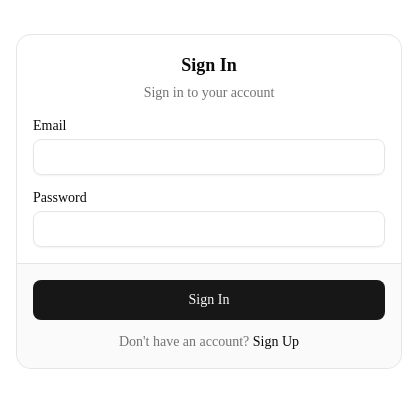
SignInForm › announces the server's error and stays on the page
This screenshot has width=419, height=404.
Type "alice@example.com" into the field labelled "Email".
click(209, 156); type("alice@example.com")  # box 33,138 -> 385,174
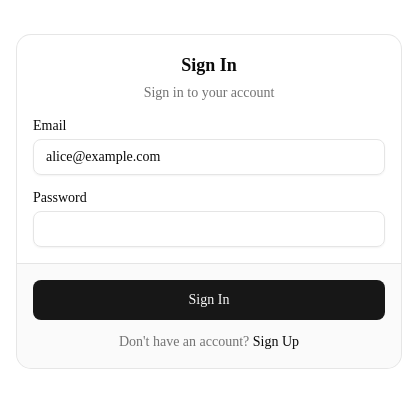
Type "correct horse" into the password field labelled "Password".
click(209, 228); type("correct horse")  # box 33,210 -> 385,246
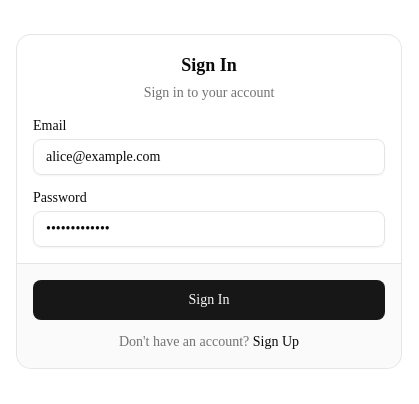
Click the button "Sign In".
click(209, 300)  # box 33,280 -> 385,320
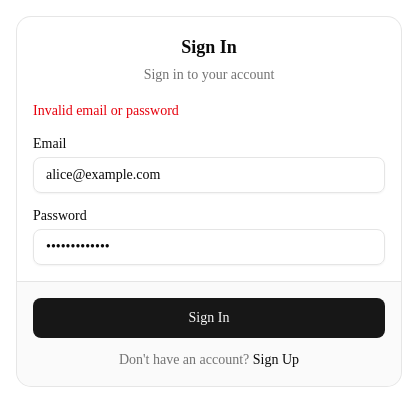
expect the message reads "Invalid email or password": met, box 33,102 -> 179,118
